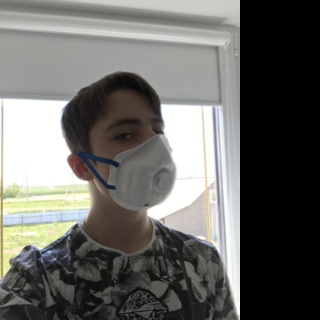with_mask: (100, 105, 176, 211)
